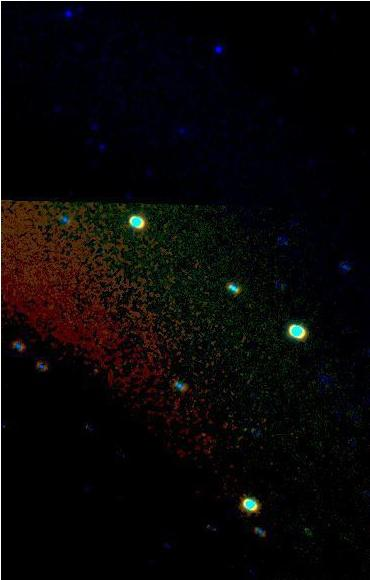star: (81, 354, 111, 384)
